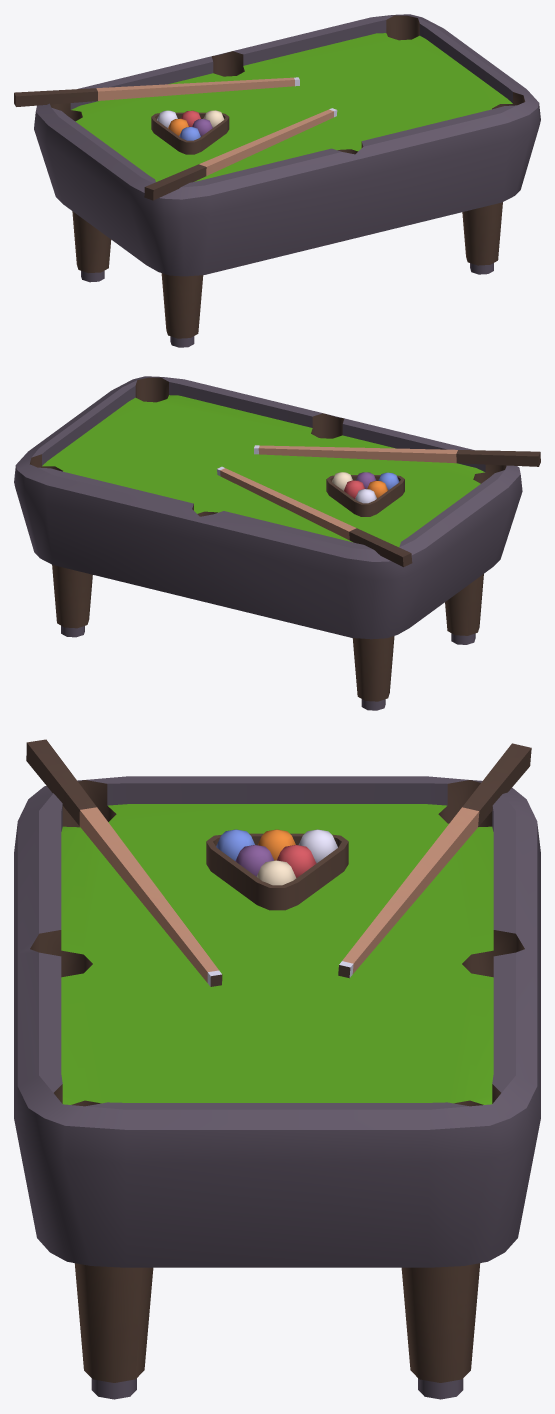
Rendered from billard.fbx.
3 views of the same model, one above another, from view 1: azimuth 30°, elevation 25°; view 2: azimuth 150°, elevation 25°; view 3: azimuth 270°, elevation 25° (orthographic). The views are drawn at different scales.
Parts seen in each view (by area): view 1: billard; view 2: billard; view 3: billard.
Part boxes in pixels (x1,y1,x2,y2): billard: (14, 14, 540, 347); billard: (14, 376, 540, 710); billard: (14, 739, 540, 1399).
Size of the model in its own units: 169 by 72.43 by 104.
